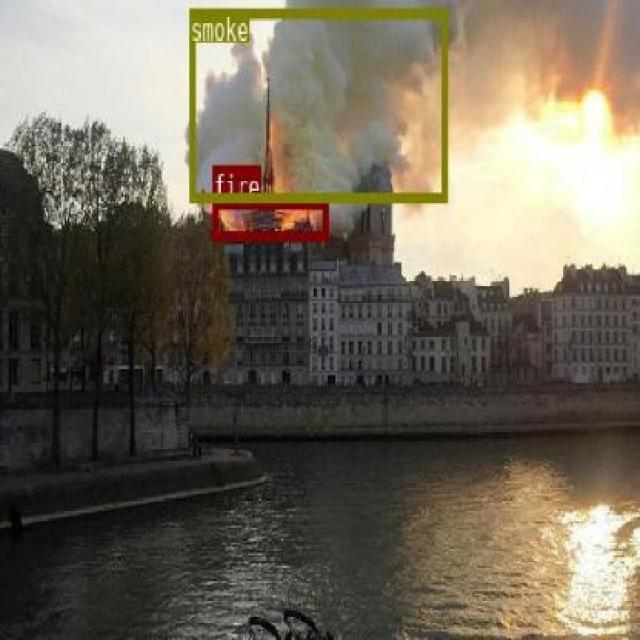fire: (211, 198, 327, 239)
smoke: (188, 7, 446, 201)
